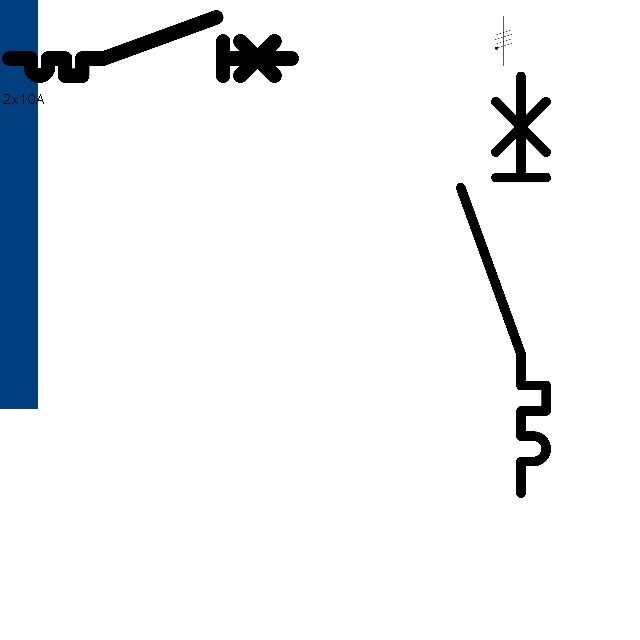interruptor_termomagnetico: (450, 65, 557, 503), (2, 10, 299, 83)
